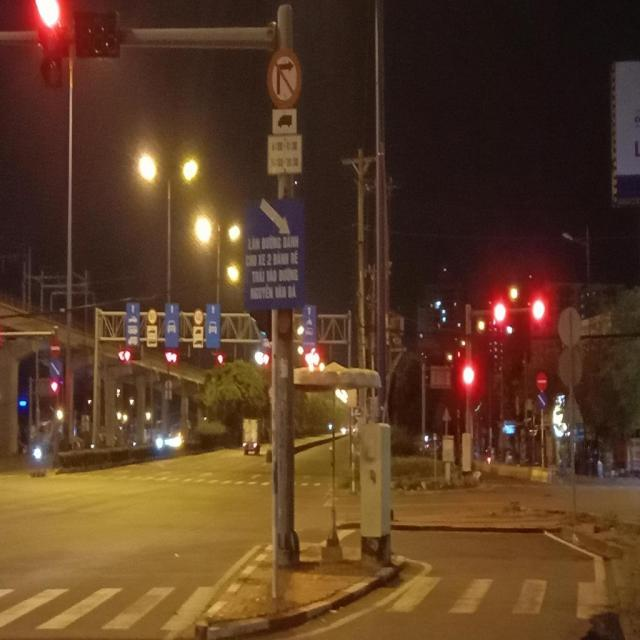cam_re_phai: (267, 48, 302, 110)
cam_xe_di_nguoc_chieu: (49, 337, 61, 358), (536, 371, 547, 391)
duong_cho_xe_o_to: (206, 304, 221, 348), (165, 303, 178, 348)
huong_phai_di_vuot_chuong_ngai_vat_phai: (49, 358, 62, 379), (536, 392, 546, 410)
khac: (245, 199, 303, 310), (267, 135, 302, 175), (272, 108, 296, 133), (302, 305, 316, 347), (126, 302, 139, 346), (147, 325, 156, 338), (146, 337, 157, 347), (192, 336, 203, 346), (194, 326, 203, 337)
toc_do_toi_da_60: (194, 308, 204, 325)
toc_do_toi_da_80: (147, 309, 157, 323)
